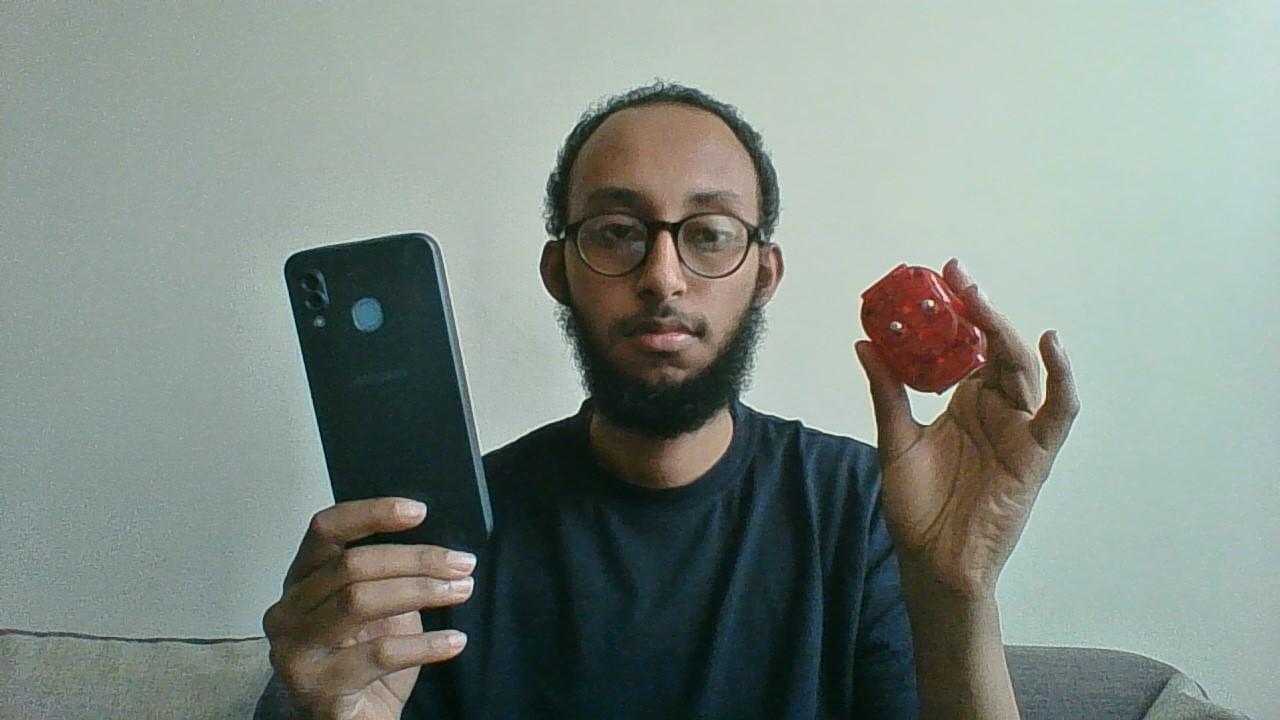Multi_adapter: (856, 257, 995, 399)
Smart_phone: (278, 225, 502, 552)
